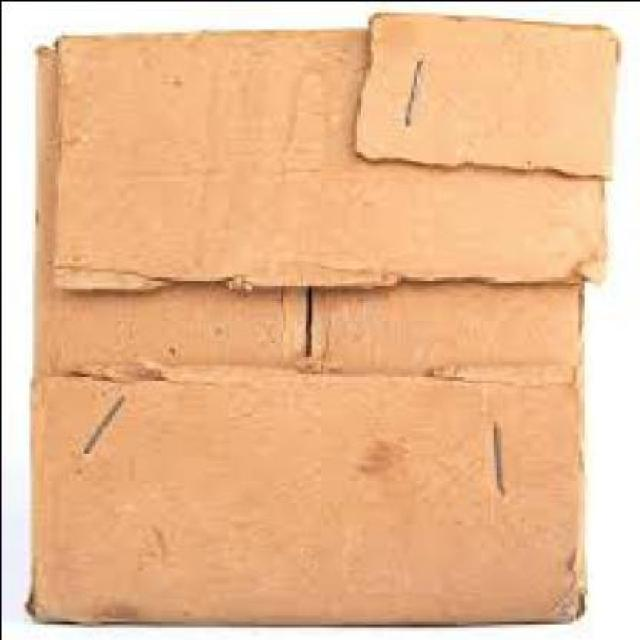CARDBOARD: (20, 6, 614, 623)
